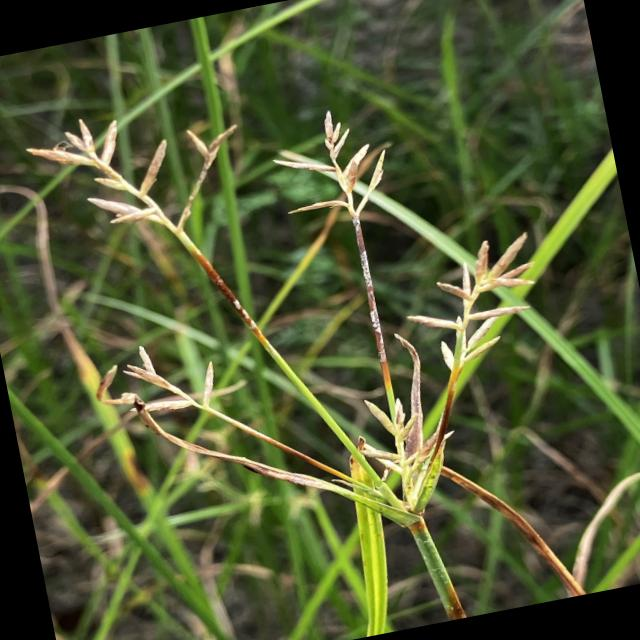cyperus: (15, 33, 572, 580)
